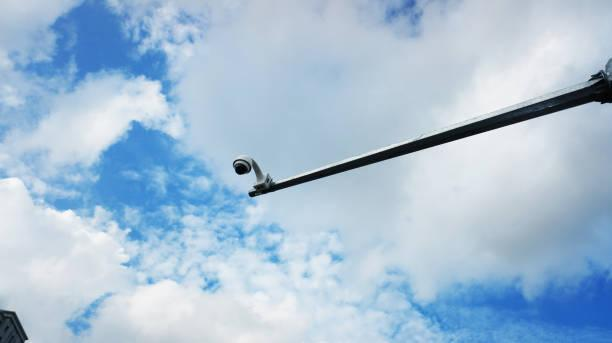camera: (224, 143, 271, 201)
